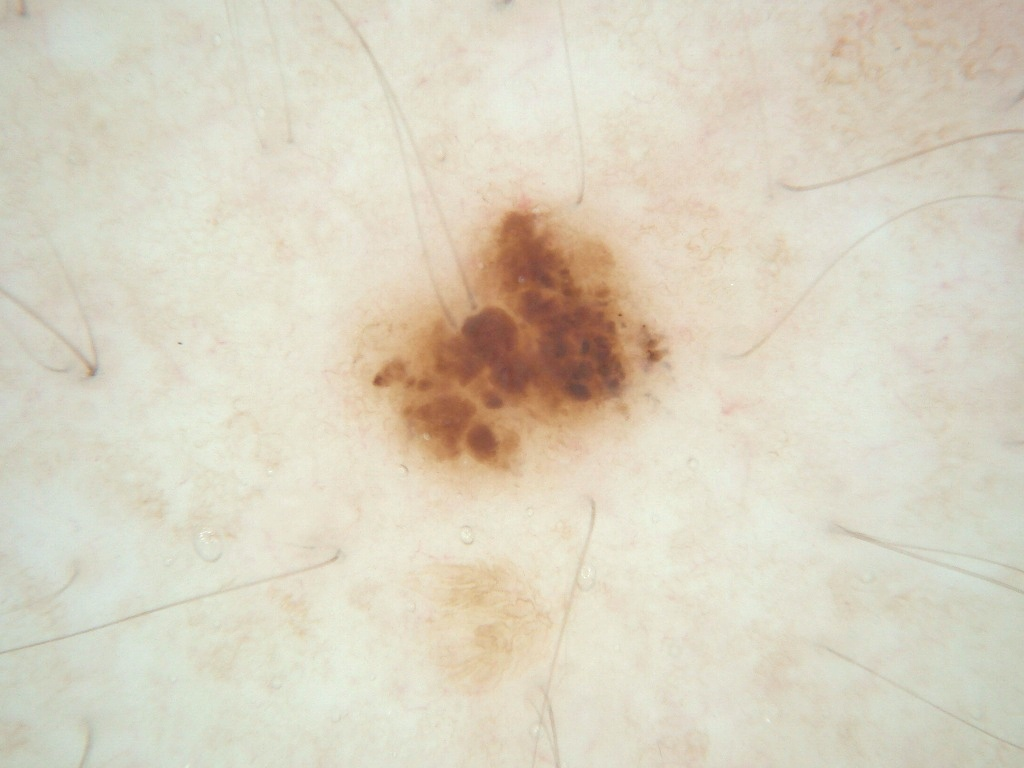Detected Lesion: (358, 194, 680, 482)
